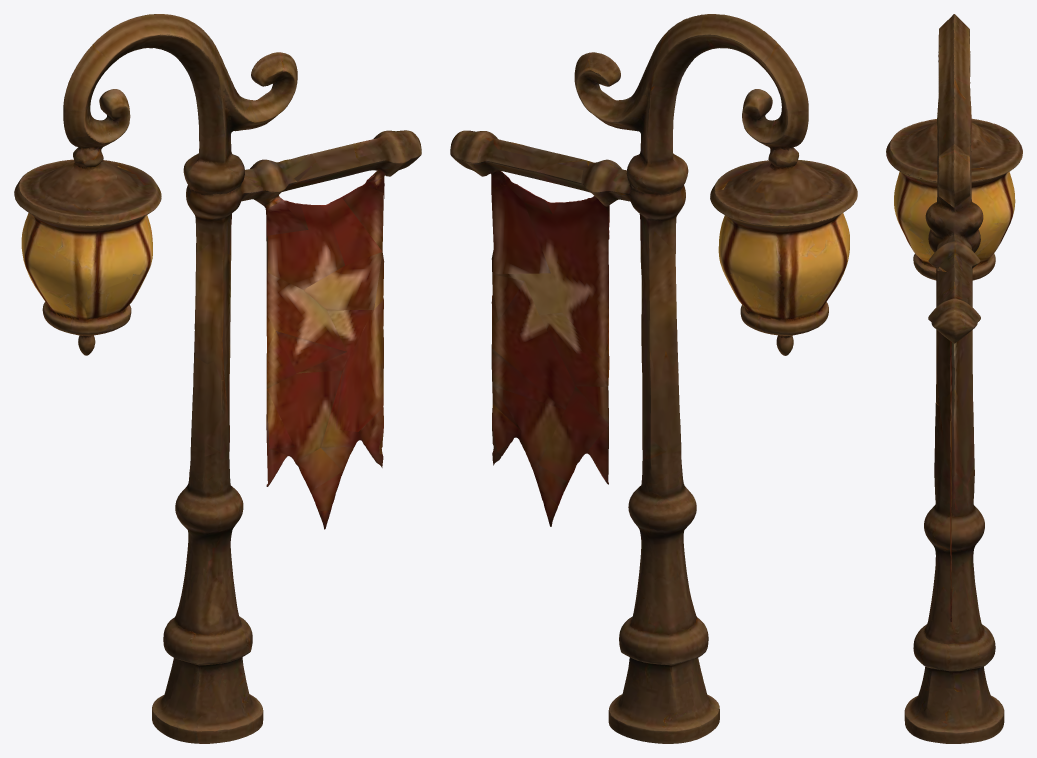
File: p_farola.glb
3 views of the same model, side by side, from view 1: azimuth 30°, elevation 25°; view 2: azimuth 150°, elevation 25°; view 3: azimuth 270°, elevation 25° (orthographic). The views are drawn at different scales.
Bounding box in the file's own units: 1.09 × 1.9 × 0.3512.
Materials: 1 (1 with a texture image).
